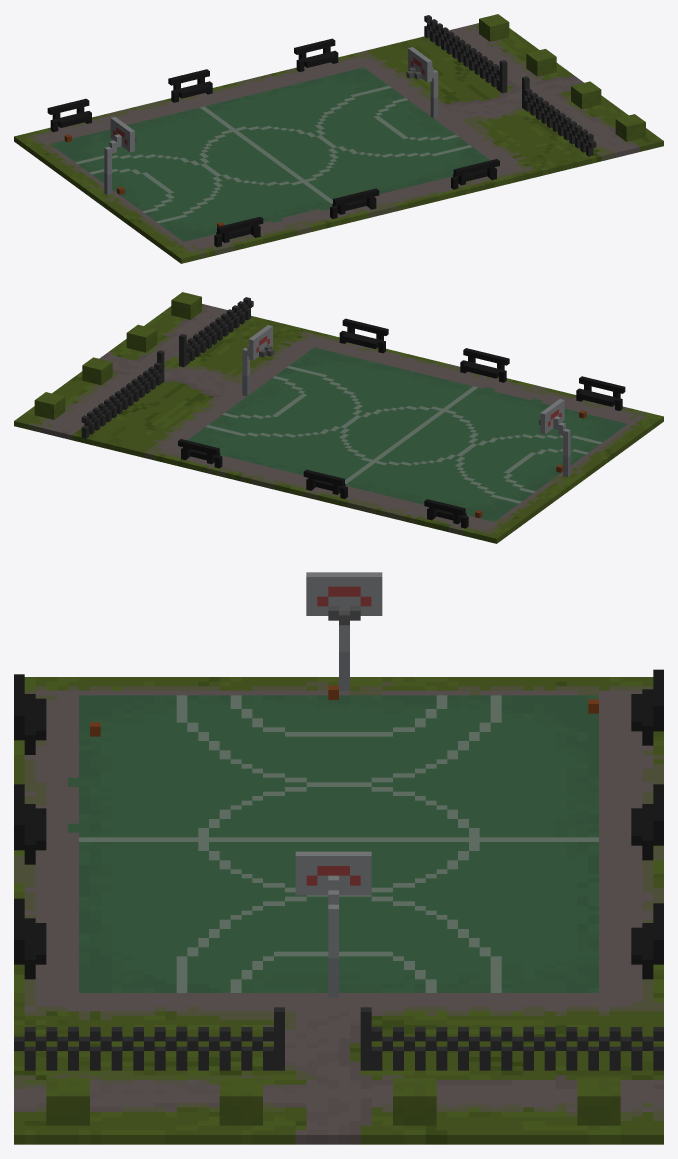
The model's file is Ploshadka.obj.
The picture shows the model from 3 angles, top to bottom: view 1: azimuth 30°, elevation 25°; view 2: azimuth 150°, elevation 25°; view 3: azimuth 270°, elevation 25°; orthographic projection. The views are drawn at different scales.
Bounding box in the file's own units: 10 × 1.4 × 6.
Materials: 1 (1 with a texture image).
